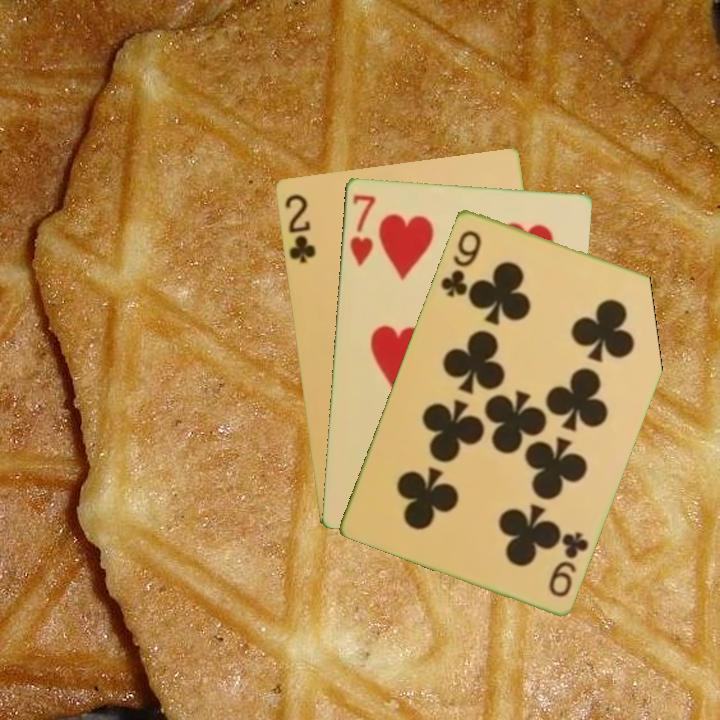2c: (281, 190, 318, 266)
7h: (346, 190, 378, 268)
9c: (436, 226, 485, 300), (544, 527, 592, 600)
